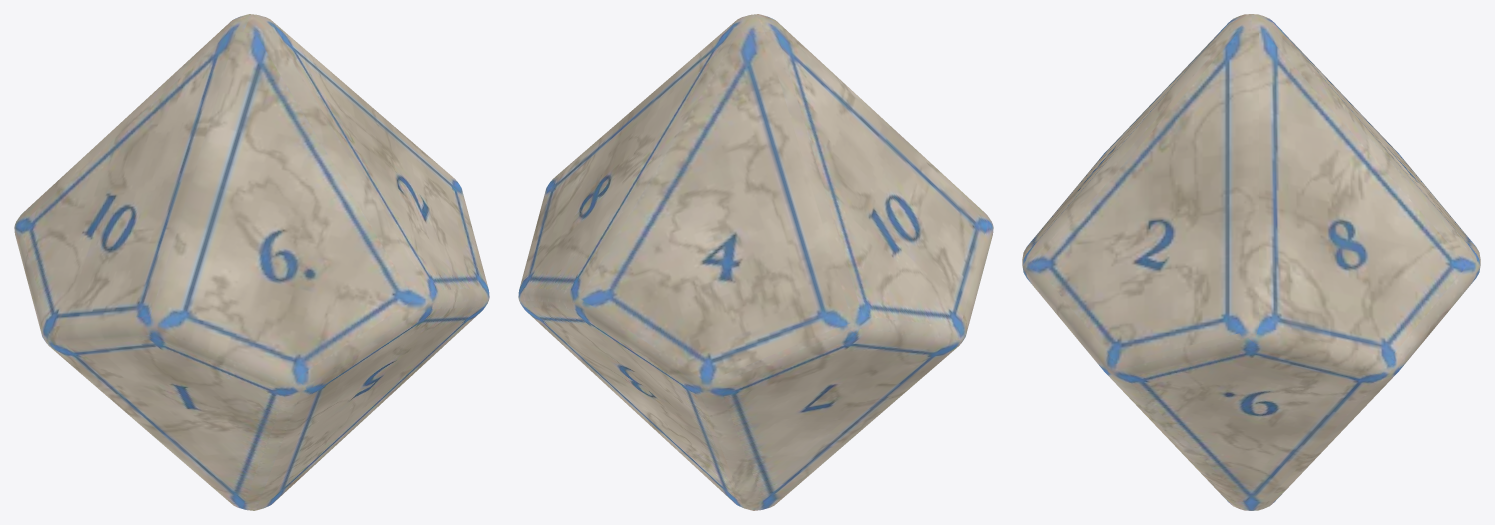
The model's file is ayleid-d10.glb.
3 views of the same model, side by side, from view 1: azimuth 30°, elevation 25°; view 2: azimuth 150°, elevation 25°; view 3: azimuth 270°, elevation 25° (orthographic).
Parts seen in each view (by area): view 1: ayleid_d10; view 2: ayleid_d10; view 3: ayleid_d10.
Part boxes in pixels (x1=…): ayleid_d10: x1=14, y1=14, x2=489, y2=510; ayleid_d10: x1=518, y1=14, x2=993, y2=510; ayleid_d10: x1=1022, y1=14, x2=1480, y2=510.
Bounding box in the file's own units: 1.66 × 1.91 × 1.59.
1 material, 1 textured.
